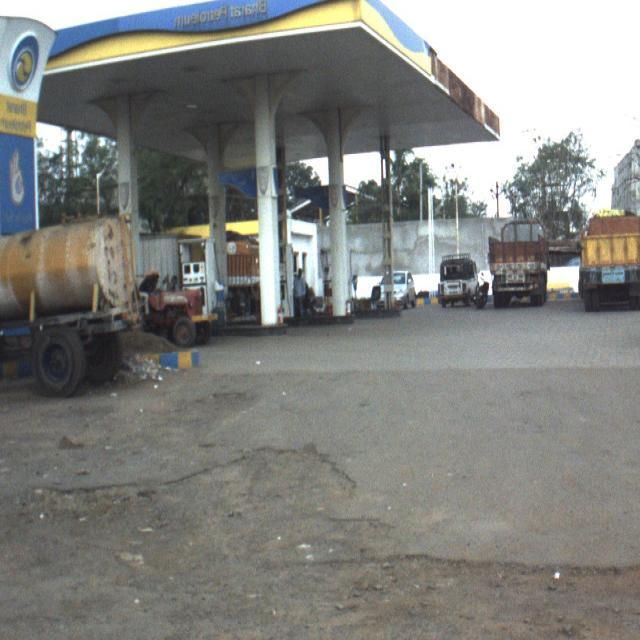Pothole: (1, 373, 634, 640)
